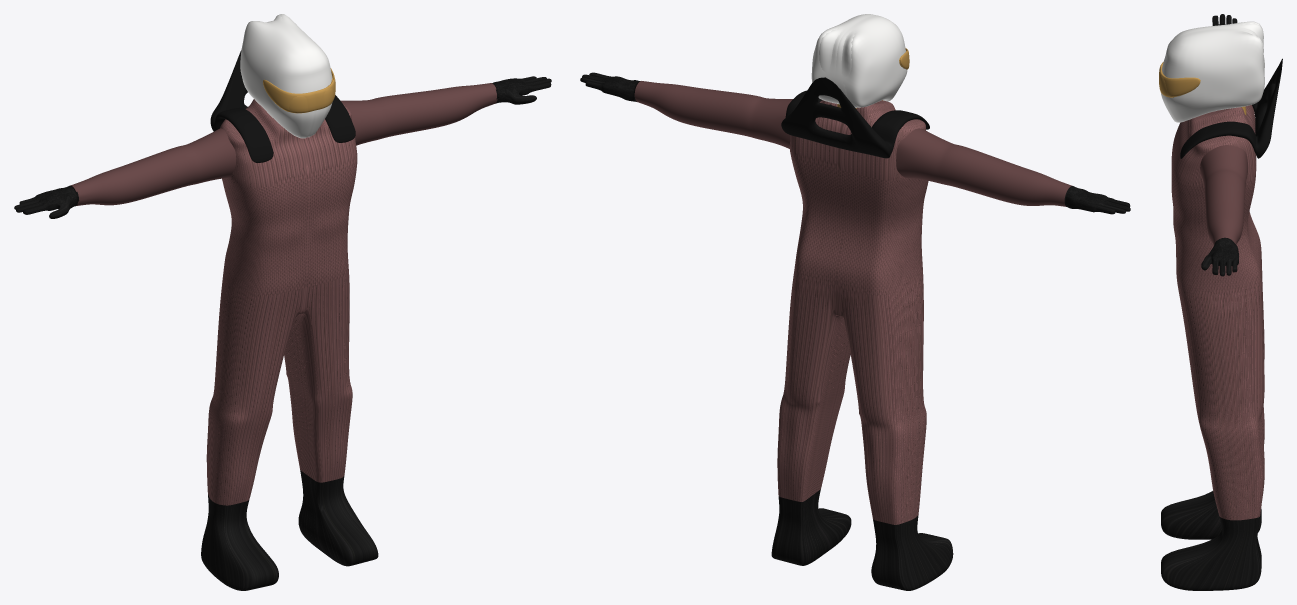
The model's file is piloto_f1_marco_giampietro 2.glb.
3 views of the same model, side by side, from view 1: azimuth 30°, elevation 25°; view 2: azimuth 150°, elevation 25°; view 3: azimuth 270°, elevation 25° (orthographic). The views are drawn at different scales.
Visible parts, largest first — view 1: Cube_1; view 2: Cube_1; view 3: Cube_1.
Boxes of the visible parts, x1,y1,x2,y2 form: Cube_1: (14,14,551,590); Cube_1: (580,14,1130,590); Cube_1: (1159,14,1282,590).
Bounding box in the file's own units: 1.77 × 1.69 × 0.3576.
4 materials, 4 textured.
